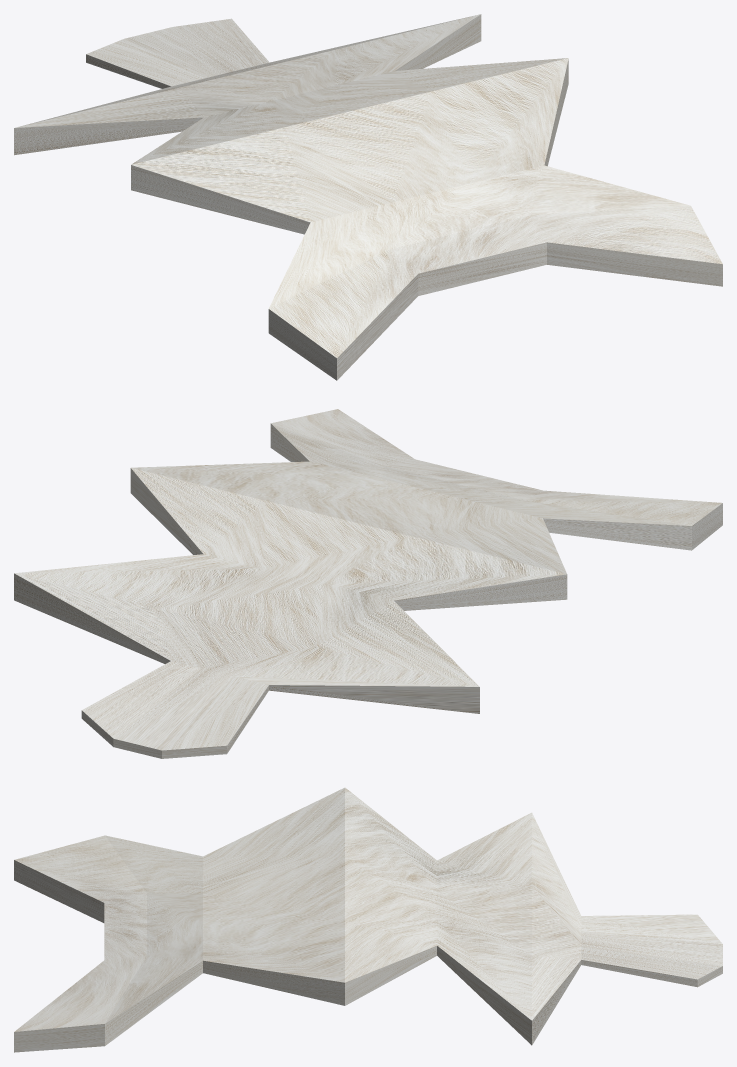
Rendered from fur.glb.
The picture shows the model from 3 angles, top to bottom: view 1: azimuth 30°, elevation 25°; view 2: azimuth 150°, elevation 25°; view 3: azimuth 270°, elevation 25°; orthographic projection. The views are drawn at different scales.
Parts seen in each view (by area): view 1: Cube; view 2: Cube; view 3: Cube.
Boxes of the visible parts, bbox=[...] form: Cube: bbox=[14, 14, 722, 380]; Cube: bbox=[14, 409, 722, 758]; Cube: bbox=[14, 787, 722, 1052].
Bounding box in the file's own units: 2.08 × 0.3806 × 2.99.
Materials: 1 (1 with a texture image).
